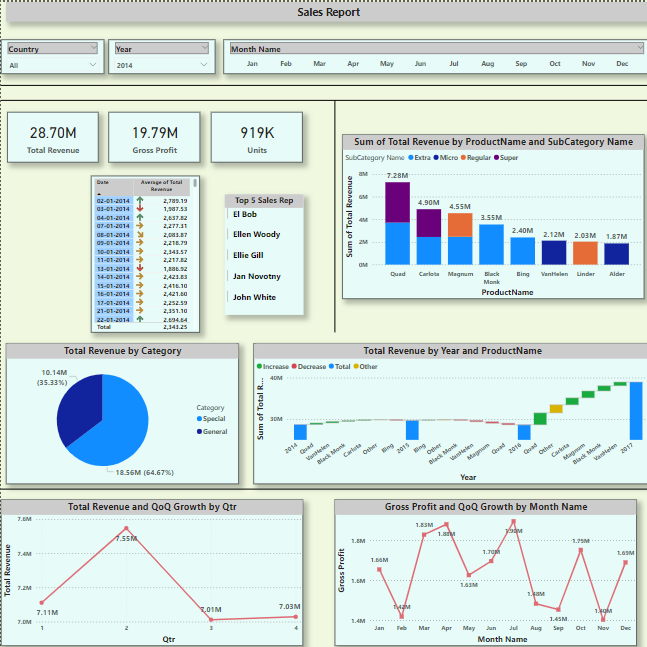

What the dashboard file says about the page in this screenshot:
{"tool":"powerbi","page":{"name":"Page 1","canvas":[1300,1300],"ordinal":0},"visuals":[{"type":"textbox","box":[9.4,0,1290.9,39.1],"z":0},{"type":"slicer","fields":{"Values":["Geography.Country"]},"box":[0,75.9,206.6,68.9],"z":1000},{"type":"slicer","fields":{"Values":["DateMaster.Year"]},"box":[215.1,75.9,213.7,68.9],"z":2000},{"type":"slicer","fields":{"Values":["DateMaster.Month Name"]},"box":[445.6,75.9,854.7,68.9],"z":3000},{"type":"shape","box":[0,144.8,1300.3,43.6],"z":4000},{"type":"shape","box":[0,176.2,1300.5,43.5],"z":5000},{"type":"card","fields":{"Values":["Sales.Total Revenue"]},"box":[12.9,219.7,182.1,101],"z":6000},{"type":"shape","box":[653.2,198.5,30.5,462.9],"z":7000},{"type":"card","fields":{"Values":["Sales.Gross Profit"]},"box":[215,219.7,183.3,101],"z":8000},{"type":"card","fields":{"Values":["Sales.Units"]},"box":[420.6,219.7,183.3,101],"z":9000},{"type":"pieChart","title":"Total Revenue by Category","fields":{"Y":["Sales.Total Revenue"],"Category":["Categories.Category"]},"box":[9.4,682.5,465.2,281.9],"z":10000},{"type":"multiRowCard","title":"Top 5 Sales Rep","fields":{"Values":["Sales rep.Sales Rep Name"]},"box":[446.4,384.1,157.4,240.8],"z":11000},{"type":"waterfallChart","title":"Total Revenue by Year and ProductName","fields":{"Category":["DateMaster.Year"],"Breakdown":["Product.ProductName"],"Y":["Sales.Total Revenue"]},"box":[505.2,682.5,795.3,281.9],"z":12000},{"type":"columnChart","fields":{"Category":["Product.ProductName"],"Y":["Sales.Total Revenue"],"Series":["Sub categories.SubCategory Name"]},"box":[683.7,265.5,603.8,328.9],"z":13000},{"type":"shape","box":[0,952.7,1300.5,43.5],"z":14000},{"type":"lineChart","fields":{"Category":["DateMaster.Qtr"],"Y":["Sales.Total Revenue"]},"box":[0,996.2,603.8,292.5],"z":15000},{"type":"lineChart","fields":{"Category":["DateMaster.Month Name"],"Y":["Sales.Gross Profit"]},"box":[668.4,996.2,603.8,292.5],"z":16000},{"type":"tableEx","fields":{"Values":["DateMaster.Date","Sales.Total Revenue"]},"box":[180.9,347.7,217.3,313.7],"z":18000}]}

Visuals, with their boxes in screenshot pixels (x1, y1, x2, y2), scaled from the page's 1300x1300 canvas onto the 647x647 screenshot:
textbox: [5,0,646,19]
slicer - Geography.Country: [0,38,103,72]
slicer - DateMaster.Year: [107,38,213,72]
slicer - DateMaster.Month Name: [222,38,646,72]
shape: [0,72,646,94]
shape: [0,88,646,109]
card - Sales.Total Revenue: [6,109,97,160]
shape: [325,99,340,329]
card - Sales.Gross Profit: [107,109,198,160]
card - Sales.Units: [209,109,301,160]
"Total Revenue by Category" pieChart: [5,340,236,480]
"Top 5 Sales Rep" multiRowCard: [222,191,301,311]
"Total Revenue by Year and ProductName" waterfallChart: [251,340,646,480]
columnChart - Product.ProductName x Sales.Total Revenue: [340,132,641,296]
shape: [0,474,646,496]
lineChart - DateMaster.Qtr x Sales.Total Revenue: [0,496,301,641]
lineChart - DateMaster.Month Name x Sales.Gross Profit: [333,496,633,641]
tableEx - DateMaster.Date x Sales.Total Revenue: [90,173,198,329]
